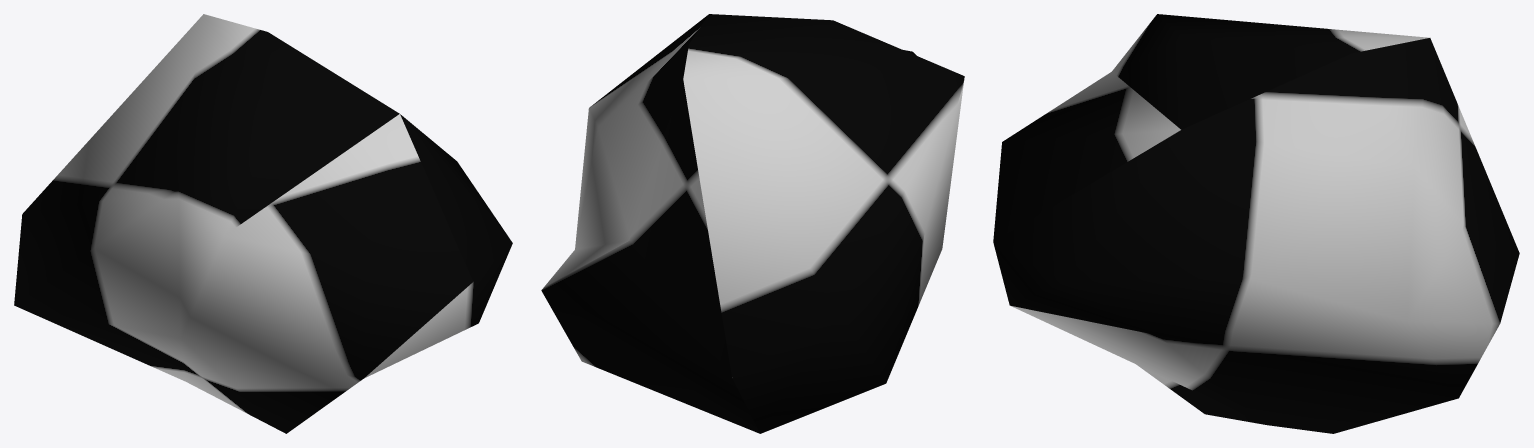
File: ore_endurium.obj
The picture shows the model from 3 angles, left to right: view 1: azimuth 30°, elevation 25°; view 2: azimuth 150°, elevation 25°; view 3: azimuth 270°, elevation 25°; orthographic projection. The views are drawn at different scales.
Parts seen in each view (by area): view 1: ore_endurium; view 2: ore_endurium; view 3: ore_endurium.
Boxes of the visible parts, bbox=[...] form: ore_endurium: bbox=[14, 14, 512, 433]; ore_endurium: bbox=[541, 14, 964, 433]; ore_endurium: bbox=[993, 14, 1519, 433].
Size of the model in its own units: 24.48 by 23.09 by 27.31.
